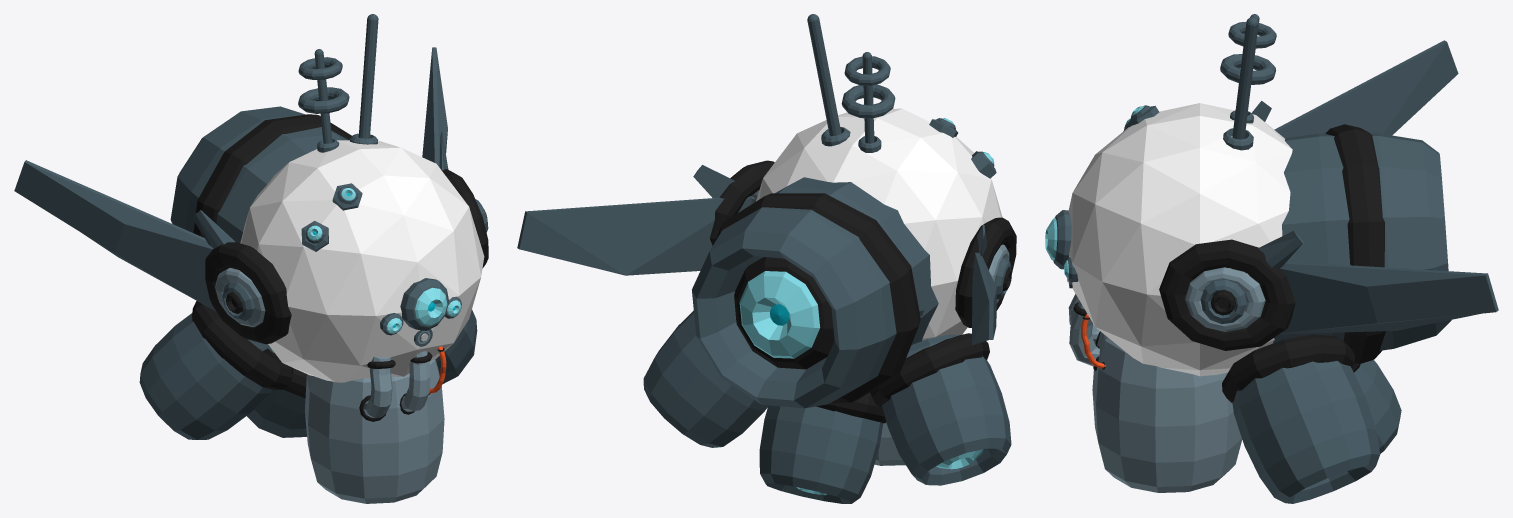
The model's file is DroneVisual.FBX.
3 views of the same model, side by side, from view 1: azimuth 30°, elevation 25°; view 2: azimuth 150°, elevation 25°; view 3: azimuth 270°, elevation 25° (orthographic). The views are drawn at different scales.
Visible parts, largest first — view 1: Drone; view 2: Drone; view 3: Drone.
Part boxes in pixels (<box>): Drone: <box>14,14,488,503</box>; Drone: <box>517,14,1016,503</box>; Drone: <box>1045,14,1498,503</box>.
Size of the model in its own units: 2470 by 2337 by 2022.
